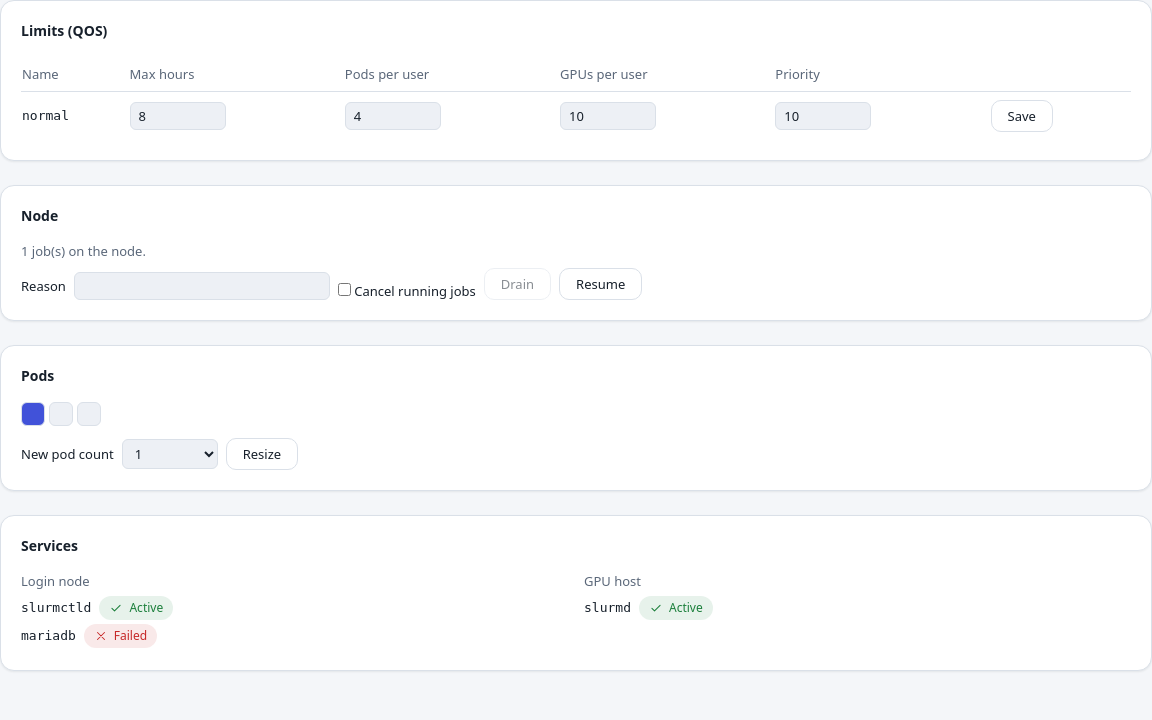
Cluster › shows the pod grid and shows a refused resize in the server's words
Check: the number of elements titled "Job 101 (amasha)" is 3, box [21, 402, 45, 426]; [49, 402, 73, 426]; [77, 402, 101, 426]
Check: the element titled "Job 101 (amasha)" is shown, box [21, 402, 45, 426]
Step 1. Click the button "Resize" → (262, 454), box [226, 438, 298, 470]
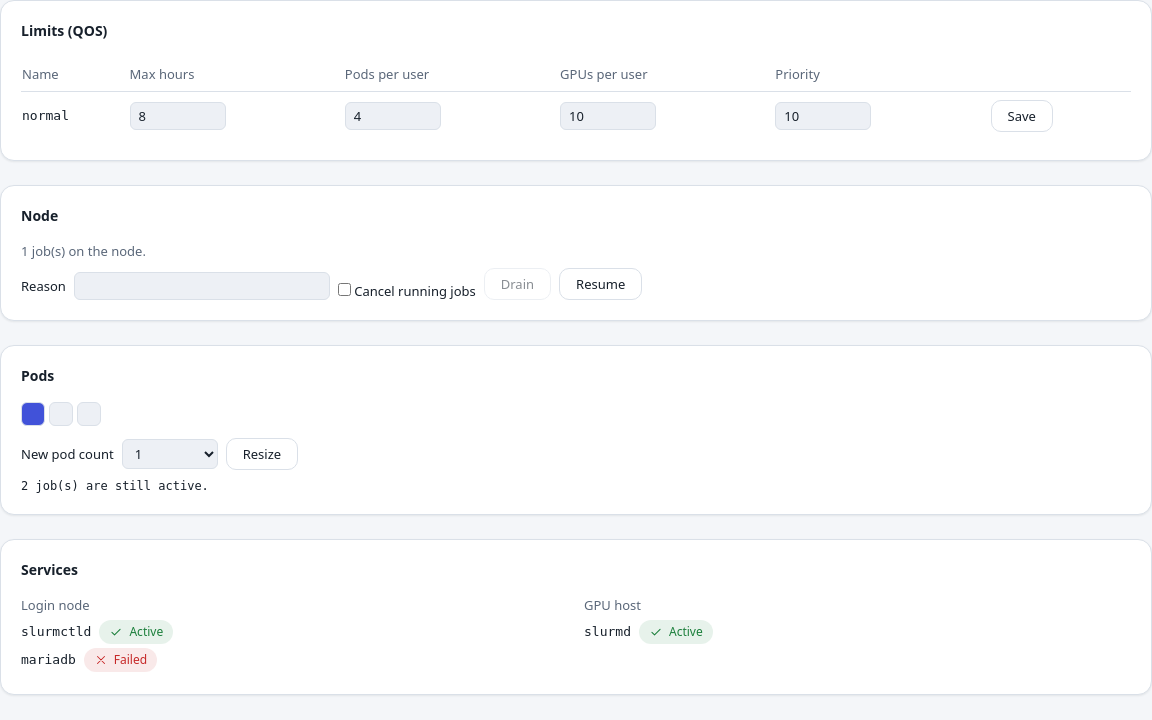
Check: the text "2 job(s) are still active." is shown, box [21, 479, 209, 493]
